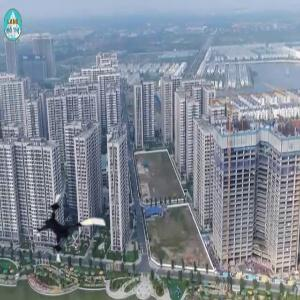drone: (31, 191, 110, 270)
